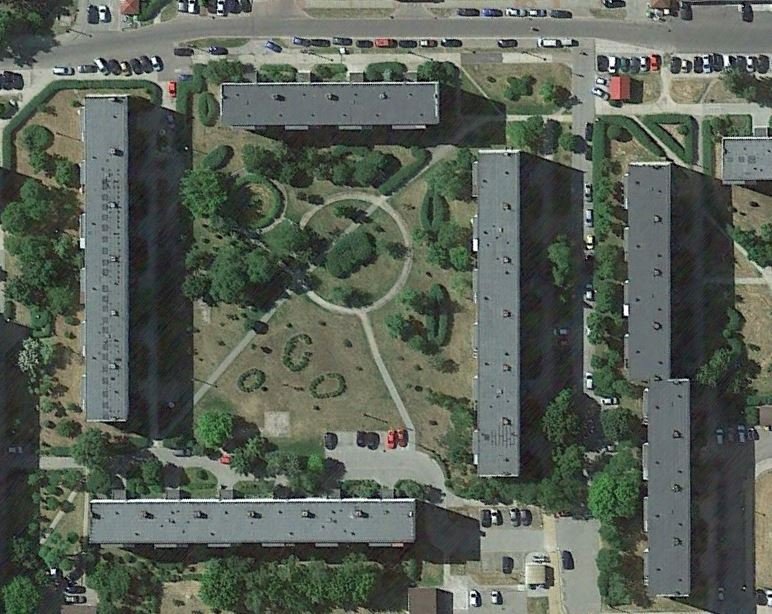block of flats: (618, 154, 701, 602), (83, 485, 424, 554), (73, 91, 135, 426), (468, 144, 528, 481), (215, 64, 446, 134), (716, 130, 772, 197)
